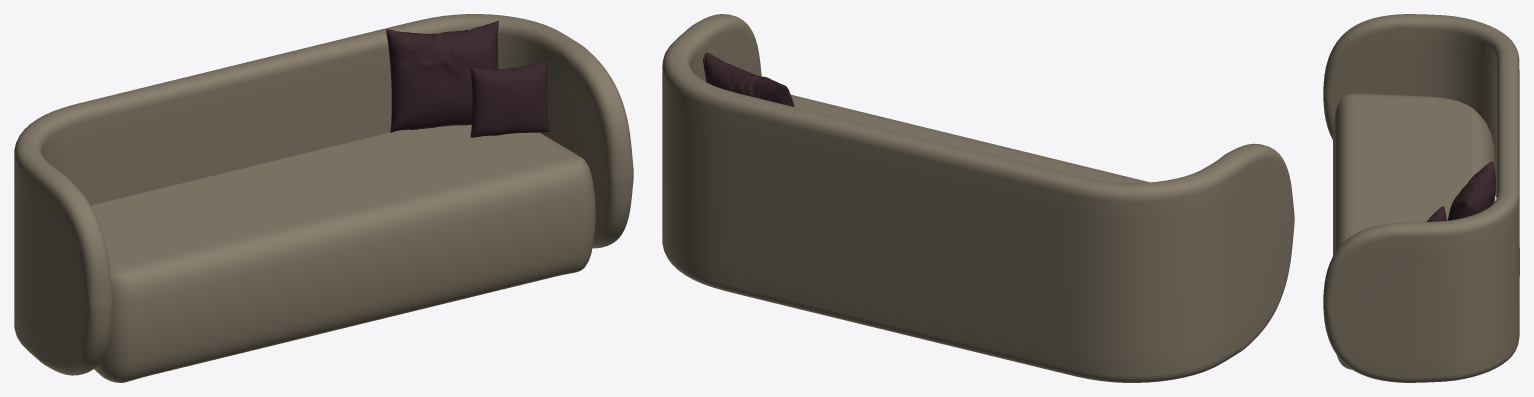
File: couch.fbx
The picture shows the model from 3 angles, left to right: view 1: azimuth 30°, elevation 25°; view 2: azimuth 150°, elevation 25°; view 3: azimuth 270°, elevation 25°; orthographic projection. The views are drawn at different scales.
Parts seen in each view (by area): view 1: Rectangle004, Rectangle005, Box001, Box002; view 2: Rectangle005, Rectangle004, Box001; view 3: Rectangle005, Rectangle004, Box001, Box002.
Part boxes in pixels (x1,y1,x2,y2): Rectangle004: (90,124,595,382); Rectangle005: (14,14,633,375); Box001: (386,21,498,132); Box002: (470,59,549,137); Rectangle005: (662,14,1294,382); Rectangle004: (790,94,1148,182); Box001: (704,52,794,106); Rectangle005: (1323,14,1519,382); Rectangle004: (1333,93,1495,369); Box001: (1447,161,1495,220); Box002: (1427,206,1446,221).
Size of the model in its own units: 166 by 59.04 by 63.36.
